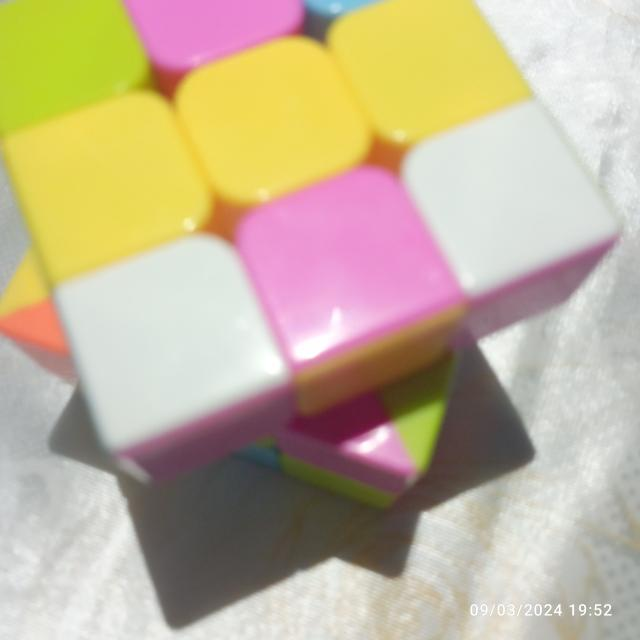Rub: (0, 0, 630, 521)
